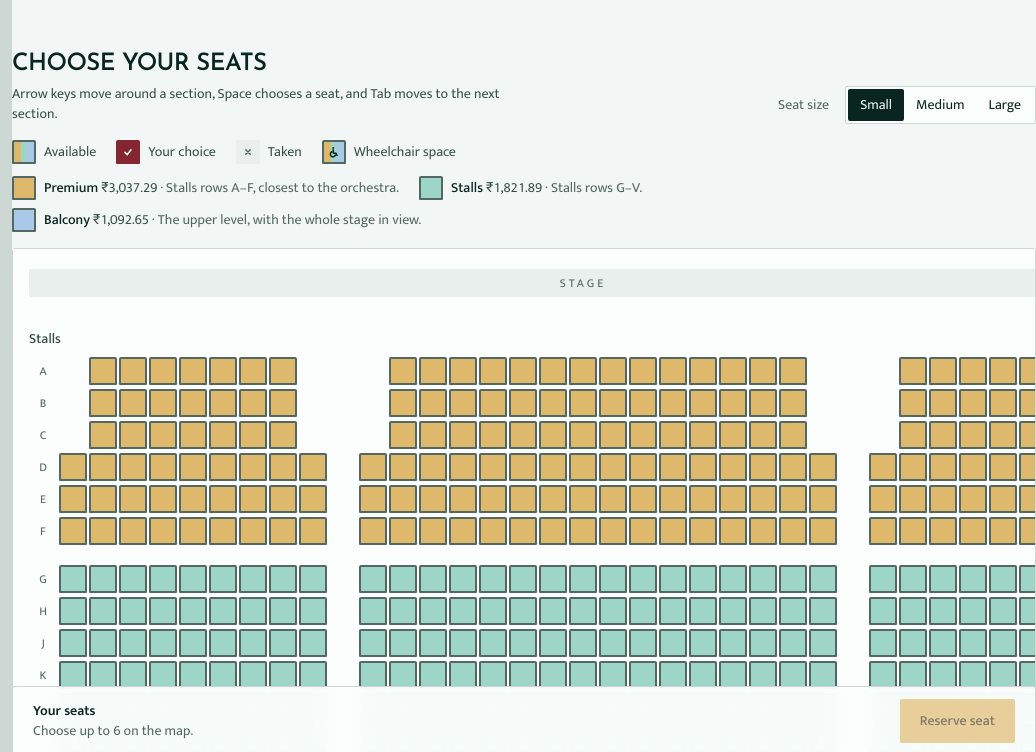
Scenario: the seat map › focuses a reserve that got no answer once, then leaves focus where the buyer puts it
Click the cell named "Row A, seat 1," at x=103, y=371, box x1=89 y1=357 x2=117 y2=385
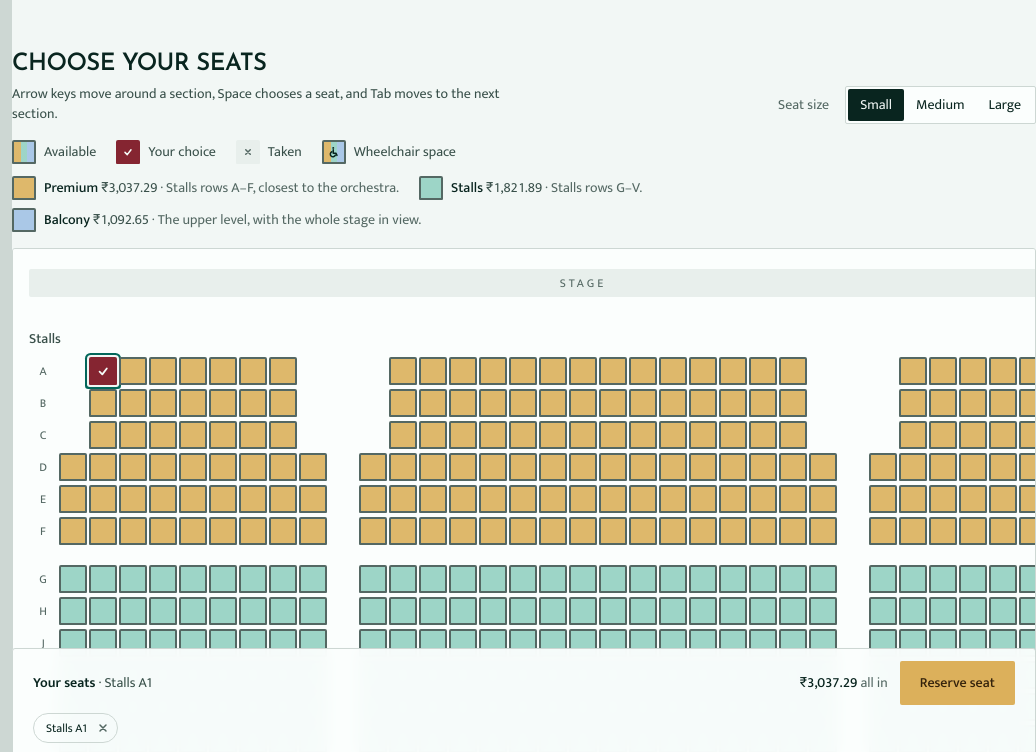
Click the button "Reserve seat" at x=957, y=683, box x1=900 y1=661 x2=1015 y2=705
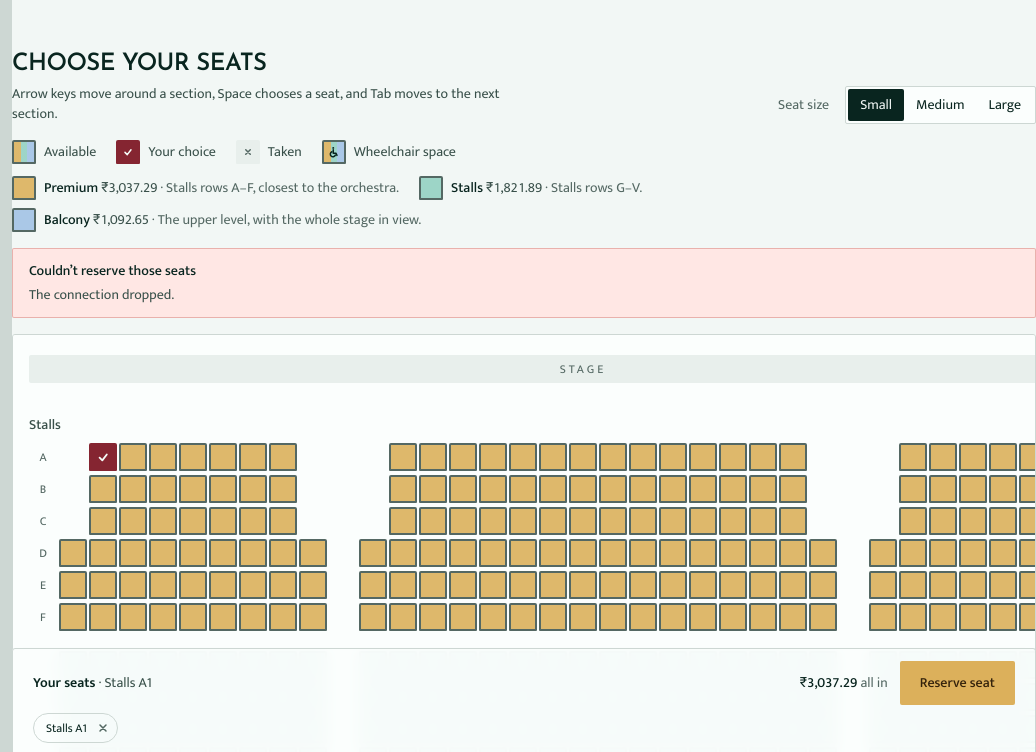
Now the message shows "Couldn’t reserve those seats", box x1=29 y1=259 x2=196 y2=282
Note: Re-rendering isn't a new failure: focus stays where the buyer moved it.
Click the radio button labelled "large" at x=1005, y=104, box x1=988 y1=93 x2=1021 y2=116
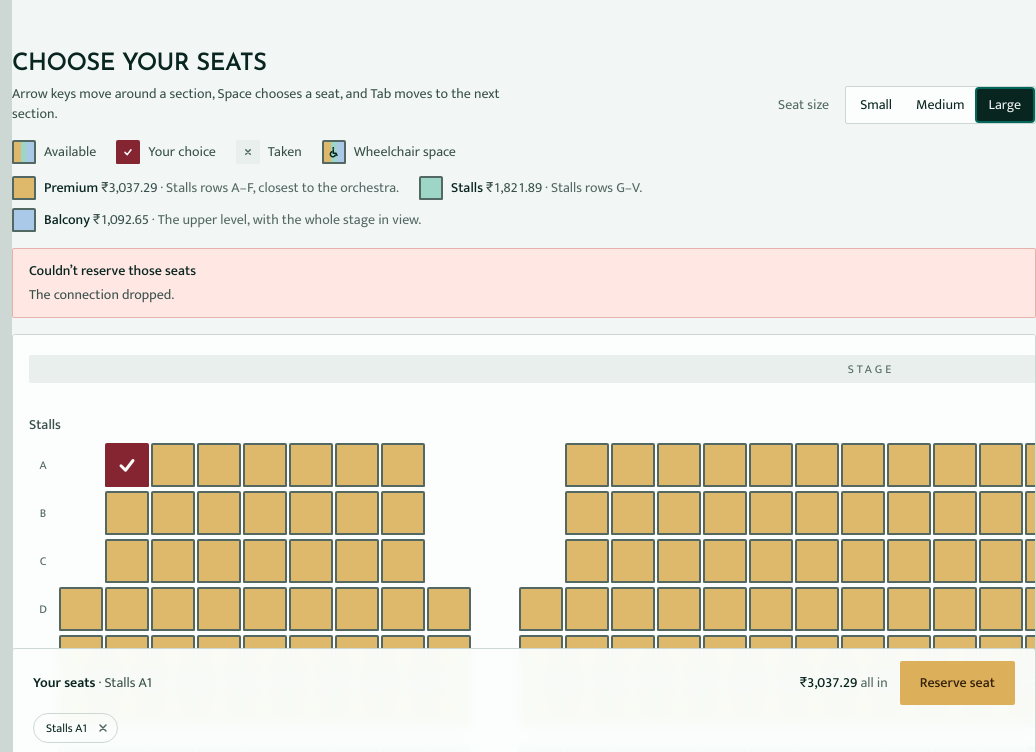
Note: Choosing again puts the failure behind them, as a server's refusal is.
Click the cell named "Row A, seat 2, Premium, ₹3,037.29" at x=173, y=465, box x1=151 y1=443 x2=195 y2=487
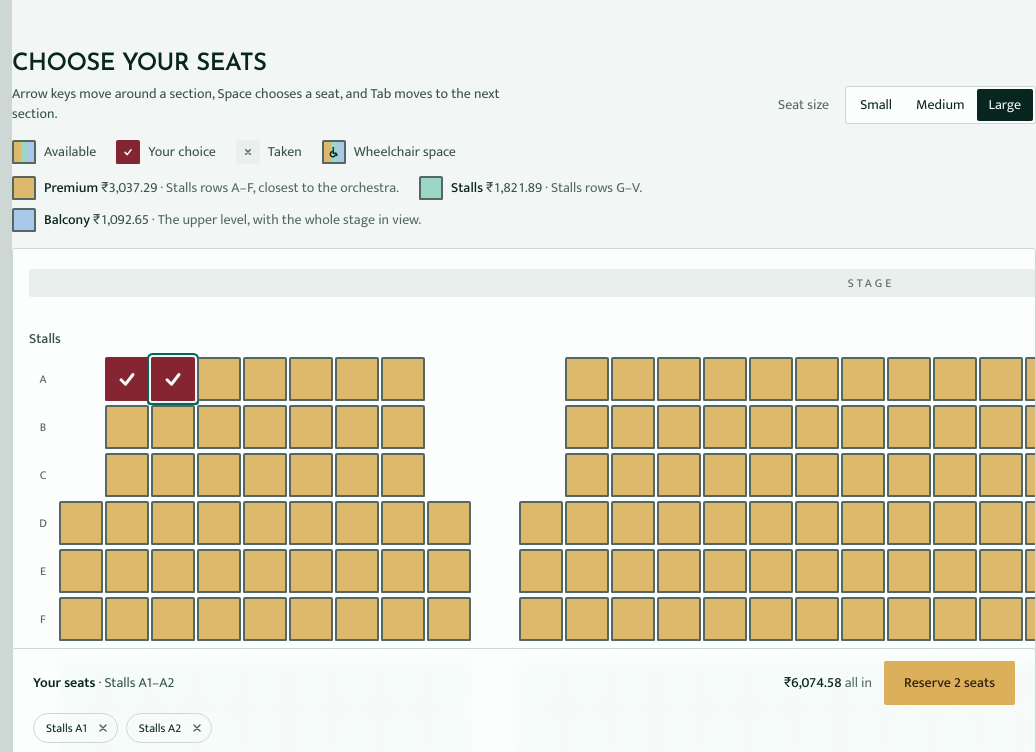
Now the message "Couldn’t reserve those seats The connection dropped." is gone
